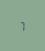seven: (19, 19, 23, 31)
